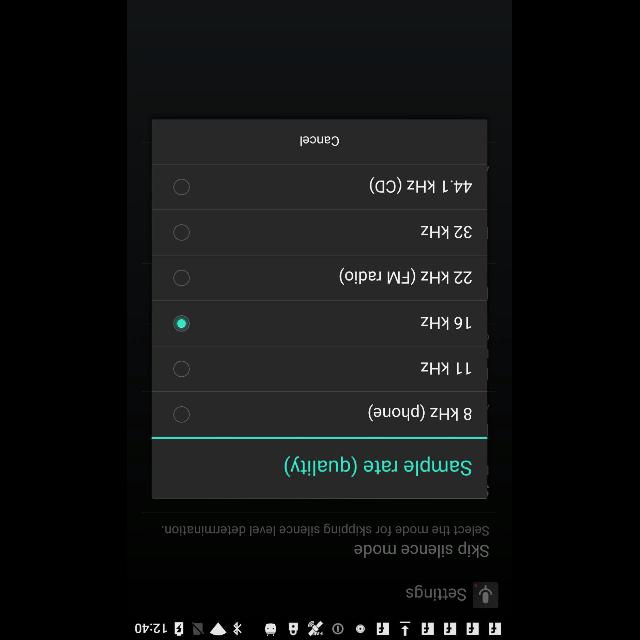checkbox: (173, 360, 190, 378), (173, 314, 190, 332), (173, 178, 190, 196), (173, 406, 190, 422), (173, 270, 190, 286), (174, 224, 190, 240)
icon: (473, 582, 499, 608)
panel: (152, 120, 488, 498)
text: (162, 524, 490, 536), (286, 456, 472, 476), (356, 541, 490, 557), (341, 268, 474, 284), (370, 404, 472, 422), (370, 176, 472, 194), (407, 585, 467, 601), (422, 316, 472, 329), (422, 363, 472, 375), (422, 226, 472, 238)
textbutton: (152, 120, 488, 164)
uppertaskbar: (128, 617, 512, 639)
